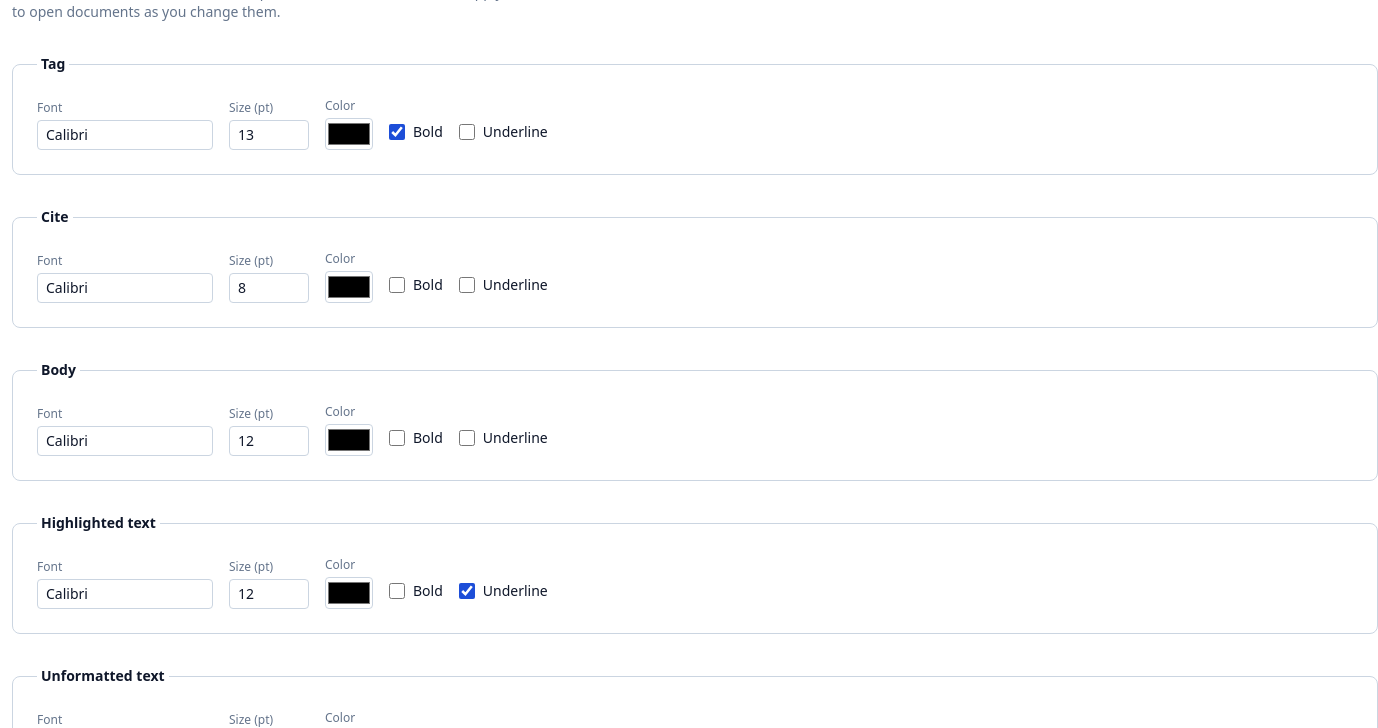
it: FormattingSettingsPanel › applies a color edit live to a consuming read
Type "#ff0000" into the 3rd colour field labelled "Color" at (349, 440), box [325,424,373,456]
(page scrolled)
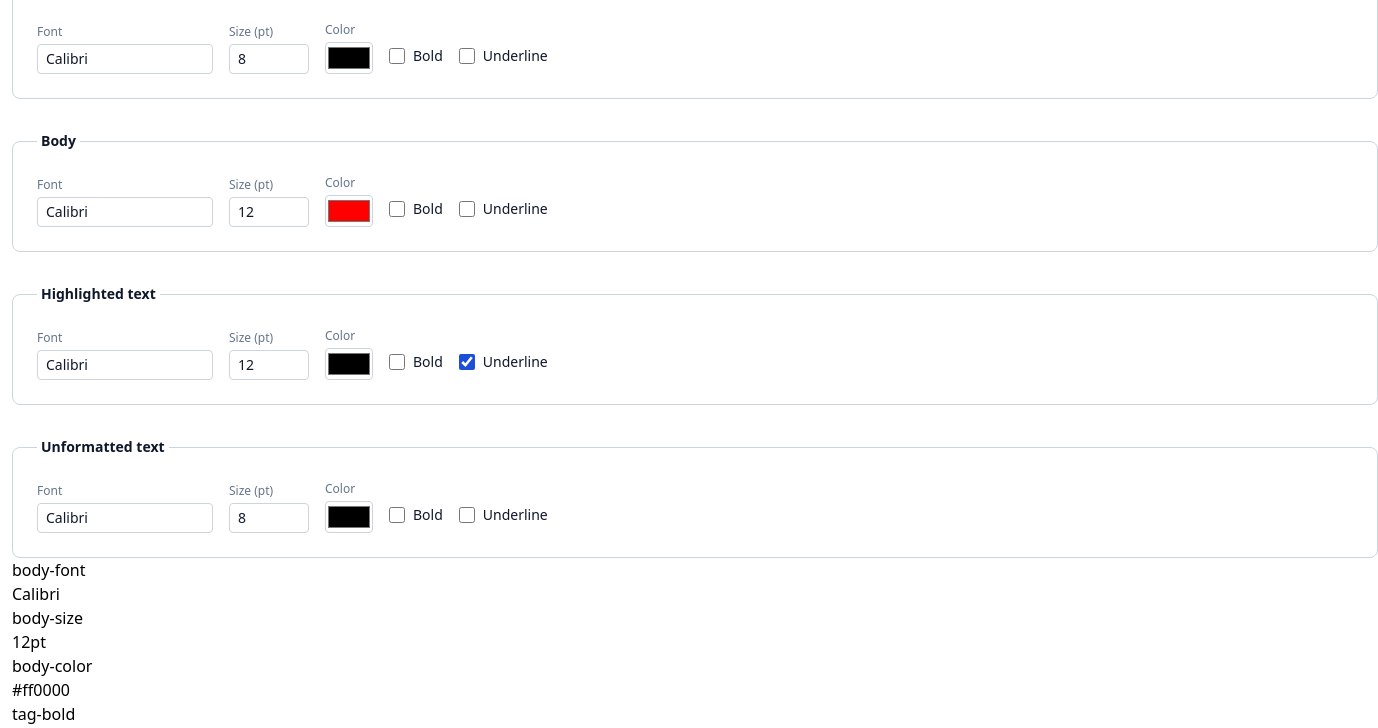
Expected: the text with test id "consume-body-color" reads "#ff0000", [12,679,70,701]
